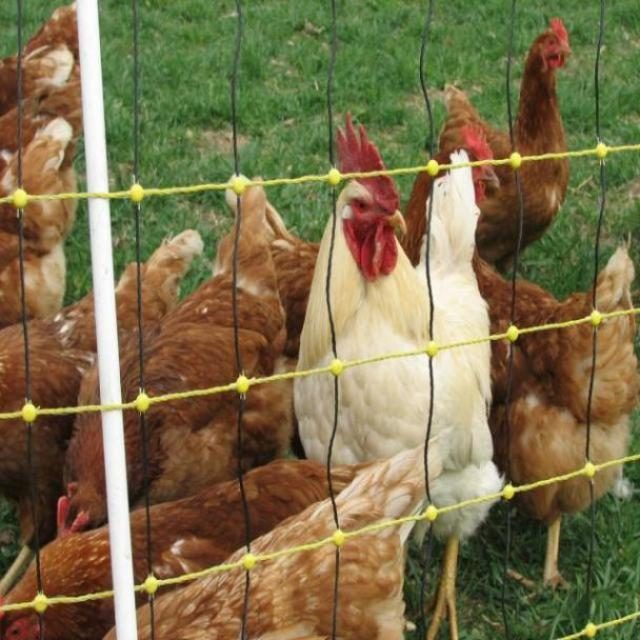Chicken: (1, 0, 640, 638), (303, 140, 512, 594)
